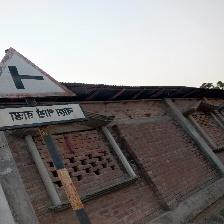Side-road-left: (0, 35, 87, 134)
